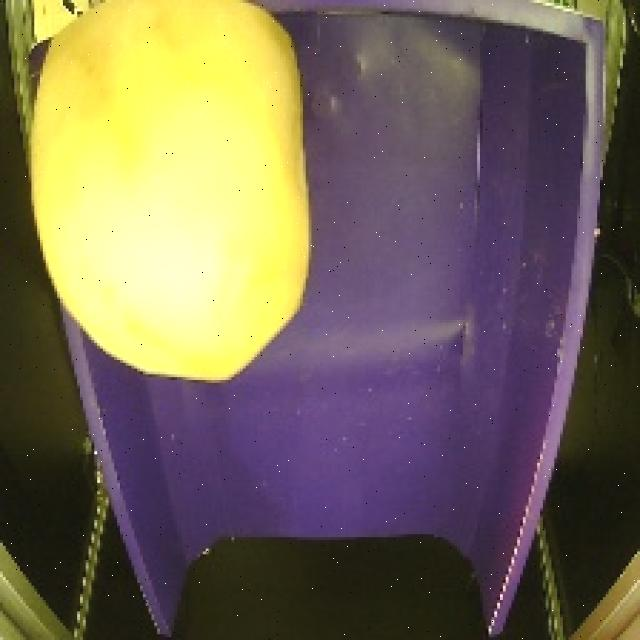full_potato: (18, 0, 326, 386)
